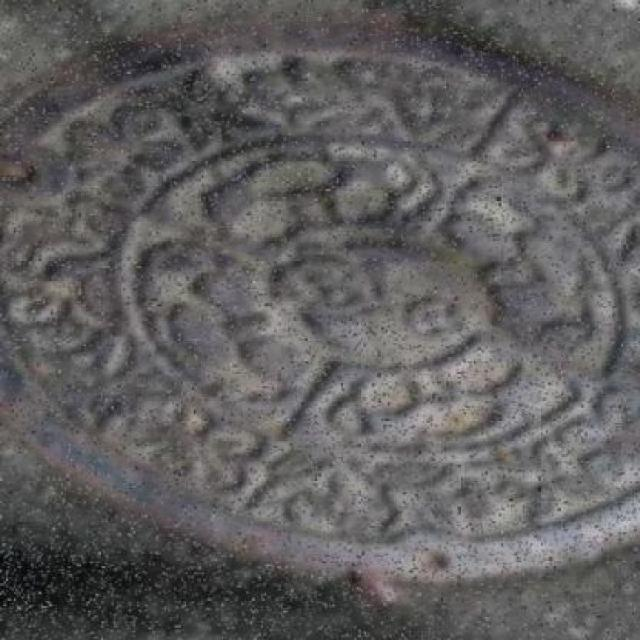Manhole: (2, 22, 640, 586)
